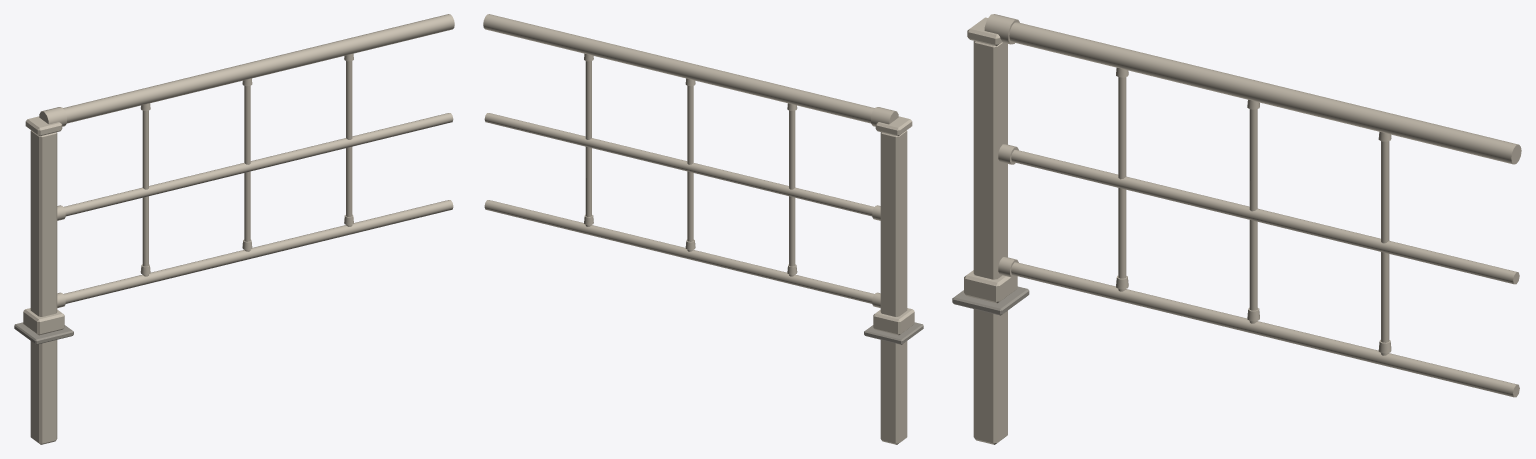
Rendered from seawallBay.glb.
3 renders of one model, left to right at view 1: azimuth 30°, elevation 25°; view 2: azimuth 150°, elevation 25°; view 3: azimuth 330°, elevation 25°, orthographic. The views are drawn at different scales.
Parts seen in each view (by area): view 1: seawallBay.native.L0.seawallBay.handrail.1, seawallBay.native.L0.seawallBay.post.0, seawallBay.native.L0.seawallBay.balusters.2; view 2: seawallBay.native.L0.seawallBay.handrail.1, seawallBay.native.L0.seawallBay.post.0, seawallBay.native.L0.seawallBay.balusters.2; view 3: seawallBay.native.L0.seawallBay.handrail.1, seawallBay.native.L0.seawallBay.post.0, seawallBay.native.L0.seawallBay.balusters.2.
Part boxes in pixels (box(x1,y1,x2,y2)): seawallBay.native.L0.seawallBay.handrail.1: box(39, 14, 454, 307); seawallBay.native.L0.seawallBay.post.0: box(14, 116, 73, 444); seawallBay.native.L0.seawallBay.balusters.2: box(140, 53, 353, 276); seawallBay.native.L0.seawallBay.handrail.1: box(483, 14, 898, 307); seawallBay.native.L0.seawallBay.post.0: box(864, 116, 923, 444); seawallBay.native.L0.seawallBay.balusters.2: box(584, 53, 797, 276); seawallBay.native.L0.seawallBay.handrail.1: box(984, 14, 1521, 397); seawallBay.native.L0.seawallBay.post.0: box(952, 17, 1029, 444); seawallBay.native.L0.seawallBay.balusters.2: box(1116, 68, 1391, 355).
Size of the model in its own units: 2.09 by 1.54 by 0.19.
